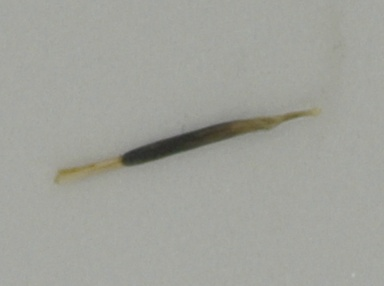เมล็ดงอกแตก: (55, 106, 321, 188)
